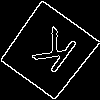K: (24, 26, 79, 83)
